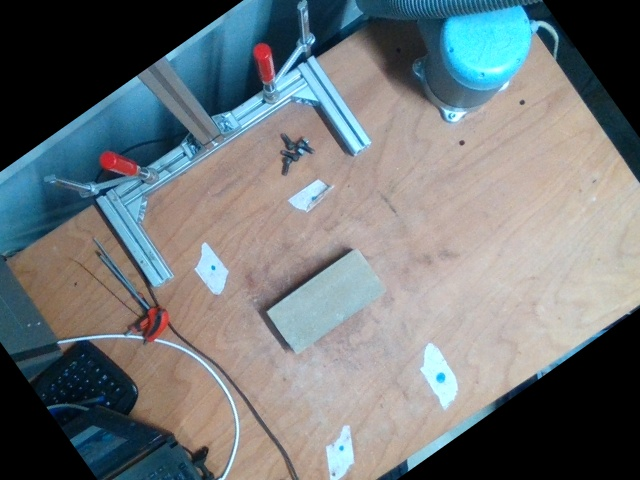brick: (267, 249, 385, 352)
